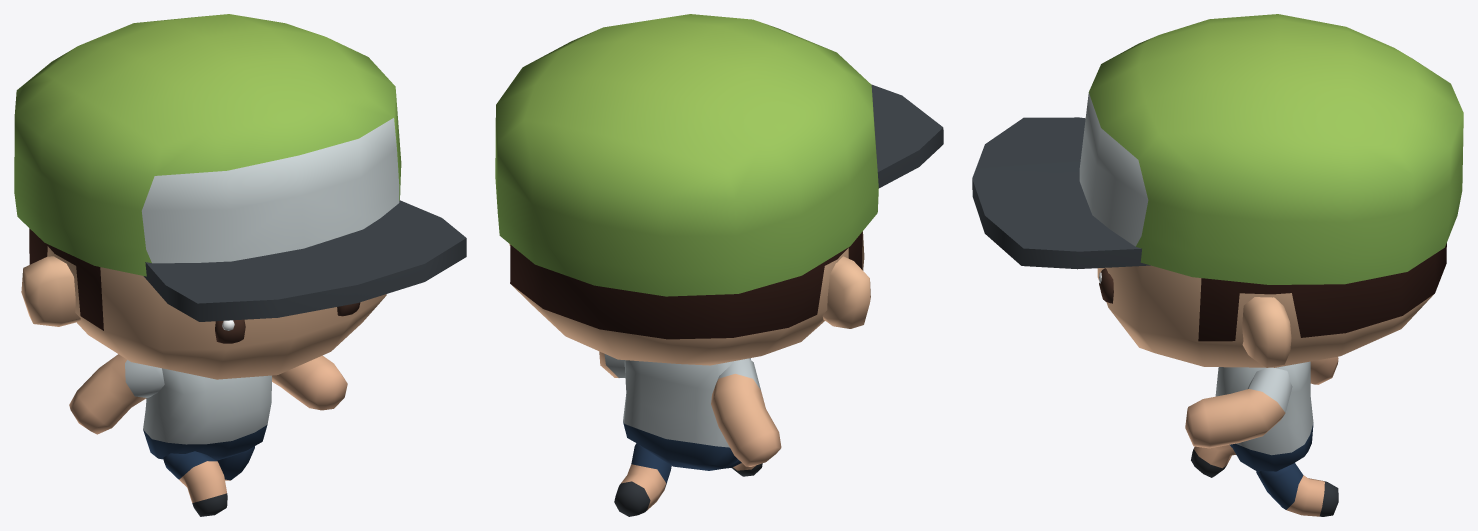
The model's file is run_0008.obj.
3 renders of one model, left to right at view 1: azimuth 30°, elevation 25°; view 2: azimuth 150°, elevation 25°; view 3: azimuth 270°, elevation 25°, orthographic.
Visible parts, largest first — view 1: Object_41, Object_42, Object_36, Object_44, Object_38; view 2: Object_41, Object_36, Object_44, Object_42; view 3: Object_41, Object_36, Object_42, Object_44.
Boxes of the visible parts, x1,y1,x2,y2 form: Object_41: (14,14,401,276); Object_42: (141,118,466,321); Object_36: (21,228,386,379); Object_44: (69,354,347,516); Object_38: (215,302,360,343); Object_41: (495,14,878,296); Object_36: (509,231,870,365); Object_44: (599,351,781,516); Object_42: (871,84,943,188); Object_41: (1089,14,1463,284); Object_36: (1097,243,1446,367); Object_42: (972,92,1150,269); Object_44: (1185,356,1338,516).
Bounding box in the file's own units: 0.9691 × 1.16 × 1.13.
